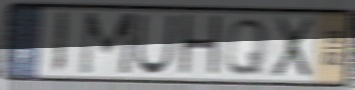H: (177, 12, 224, 80)
I: (50, 10, 70, 77)
M: (77, 10, 141, 78)
Q: (223, 17, 270, 77)
U: (132, 13, 179, 77)
X: (270, 15, 317, 80)
